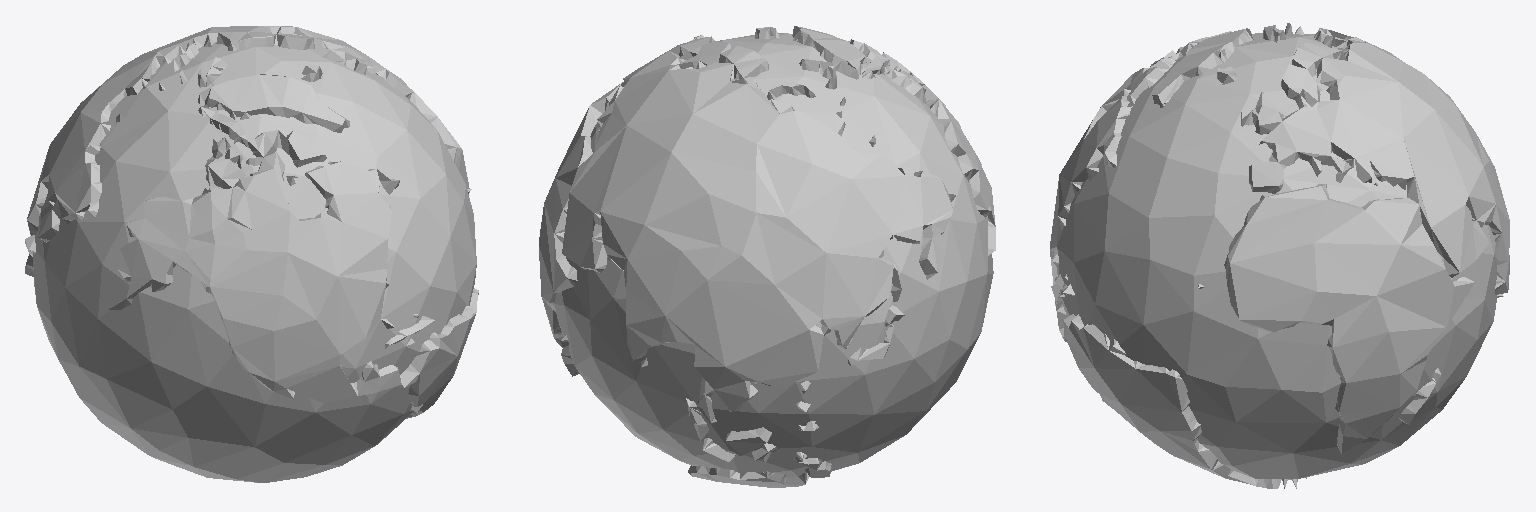
The model's file is lowpoly_earth.obj.
3 renders of one model, left to right at view 1: azimuth 30°, elevation 25°; view 2: azimuth 150°, elevation 25°; view 3: azimuth 270°, elevation 25°, orthographic.
Visible parts, largest first — view 1: low_poly_earth_Mesh; view 2: low_poly_earth_Mesh; view 3: low_poly_earth_Mesh.
Part boxes in pixels (bbox=[...]): low_poly_earth_Mesh: bbox=[25, 26, 478, 482]; low_poly_earth_Mesh: bbox=[539, 26, 995, 487]; low_poly_earth_Mesh: bbox=[1050, 23, 1509, 488].
Bounding box in the file's own units: 1.95 × 2.01 × 1.99.